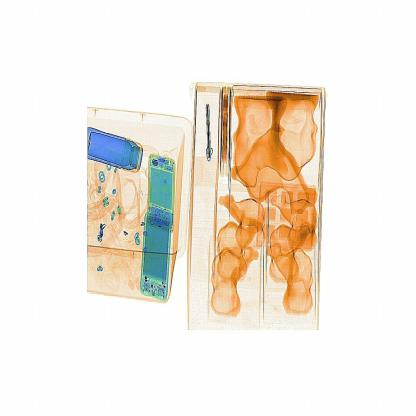knife: (203, 109, 218, 168)
